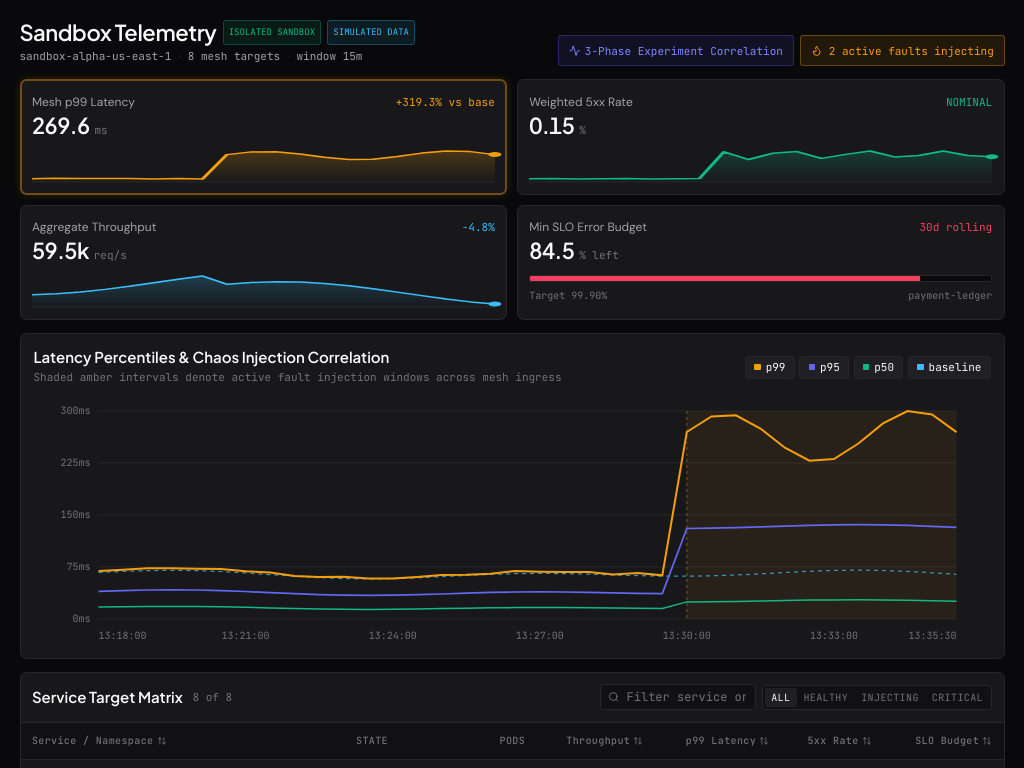
Milestone M6: Observability & Telemetry Integration UI › toggles the 3-Phase Experiment Comparison View showing Baseline, Fault Active, and Recovery phases
Click the button with test id "toggle-experiment-comparison-btn" at (676, 50), box [558,35,794,66]
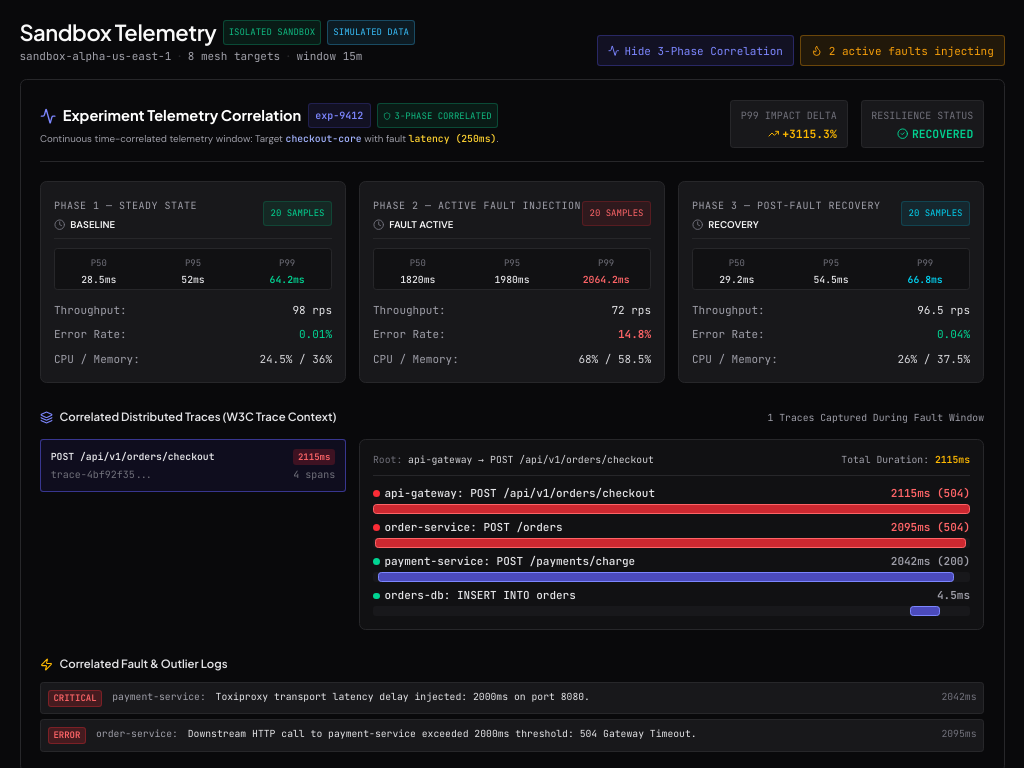
Expected: the heading "Experiment Telemetry Correlation" is shown, [40,104,301,127]
Expected: the text "3-PHASE CORRELATED" is shown, [377,103,498,128]
Expected: the text "Phase 1 — Steady State" is shown, [54,199,197,212]
